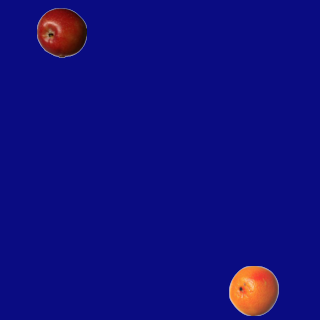Apple Braeburn: (36, 7, 86, 57)
Grapefruit Pink: (228, 265, 278, 315)
